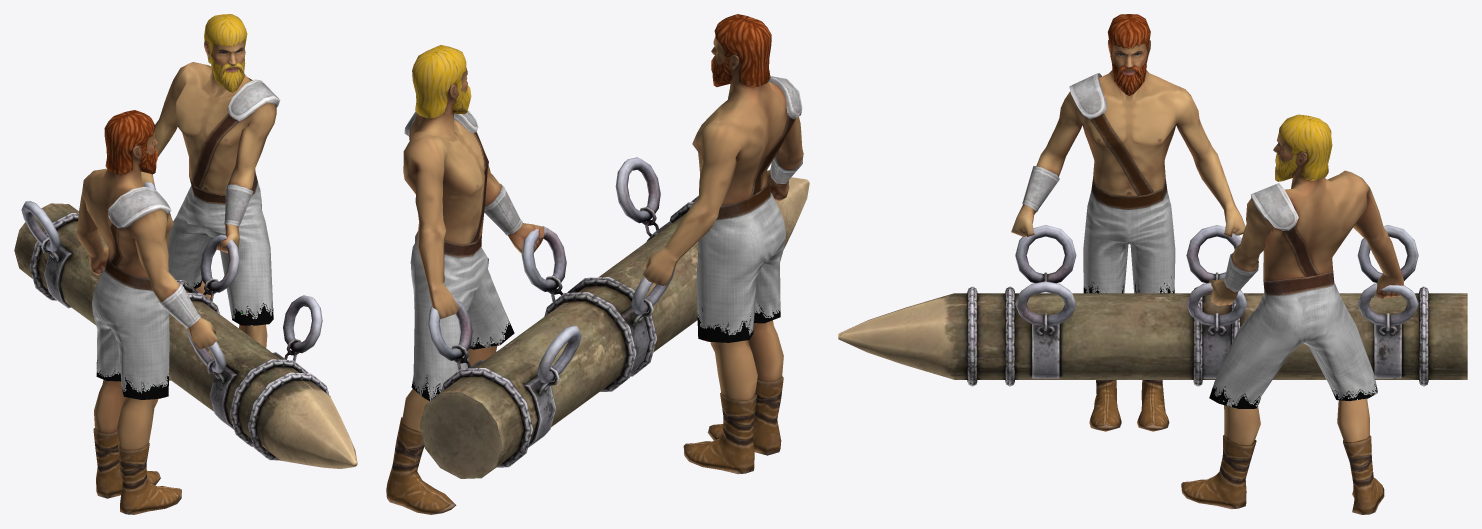
The model's file is 242-portableram.glb.
3 renders of one model, left to right at view 1: azimuth 30°, elevation 25°; view 2: azimuth 150°, elevation 25°; view 3: azimuth 270°, elevation 25°, orthographic. The views are drawn at different scales.
Bounding box in the file's own units: 1.43 × 2.09 × 2.98.
3 materials, 3 textured.
